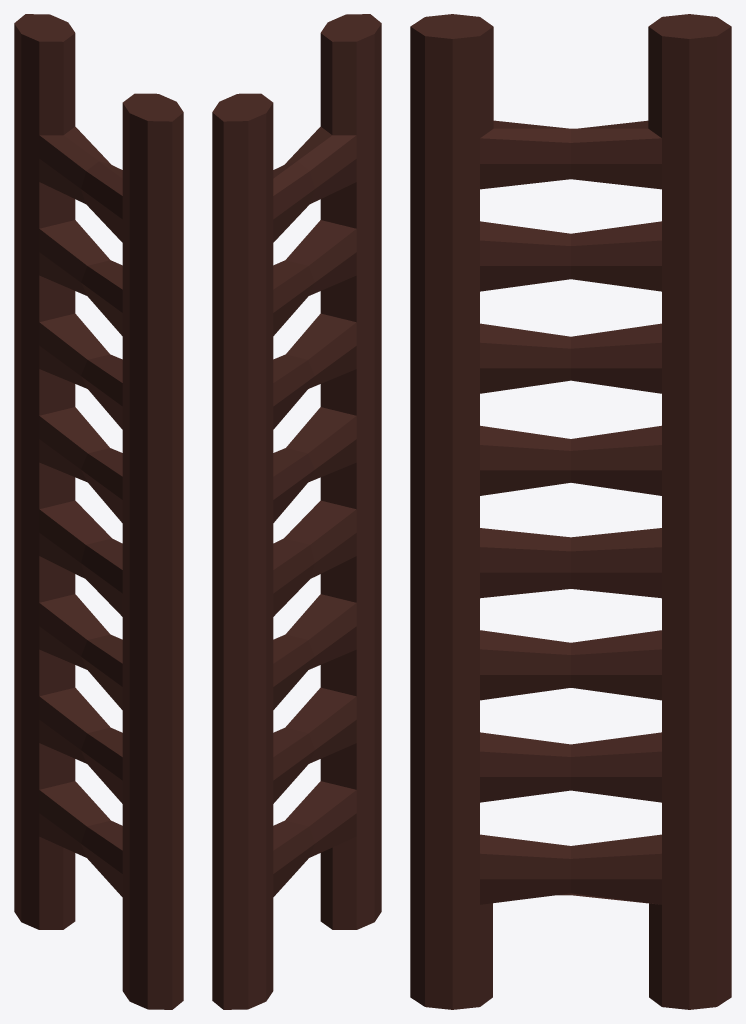
Rendered from Ladder.fbx.
3 views of the same model, side by side, from view 1: azimuth 30°, elevation 25°; view 2: azimuth 150°, elevation 25°; view 3: azimuth 270°, elevation 25° (orthographic). The views are drawn at different scales.
Visible parts, largest first — view 1: Support.116; view 2: Support.116; view 3: Support.116.
Boxes of the visible parts, <box> form: Support.116: <box>14,14,183,1009</box>; Support.116: <box>212,14,381,1009</box>; Support.116: <box>410,14,731,1009</box>.
Size of the model in its own units: 12.95 by 234 by 70.2.
